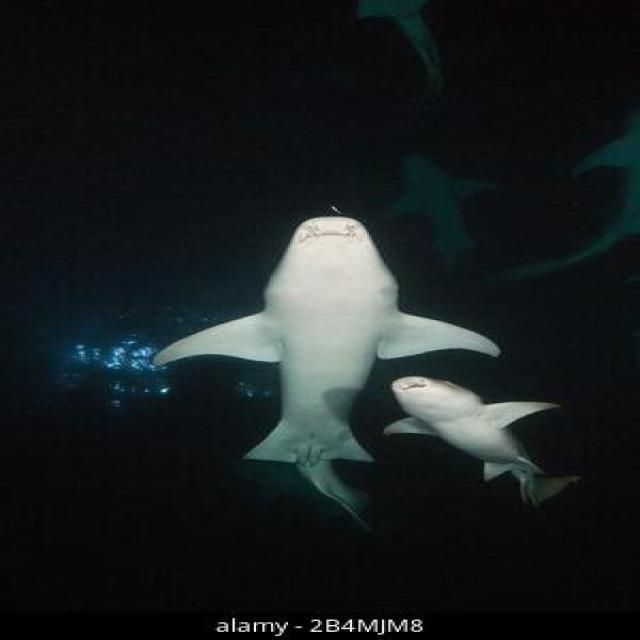Shark: (156, 172, 576, 524)
